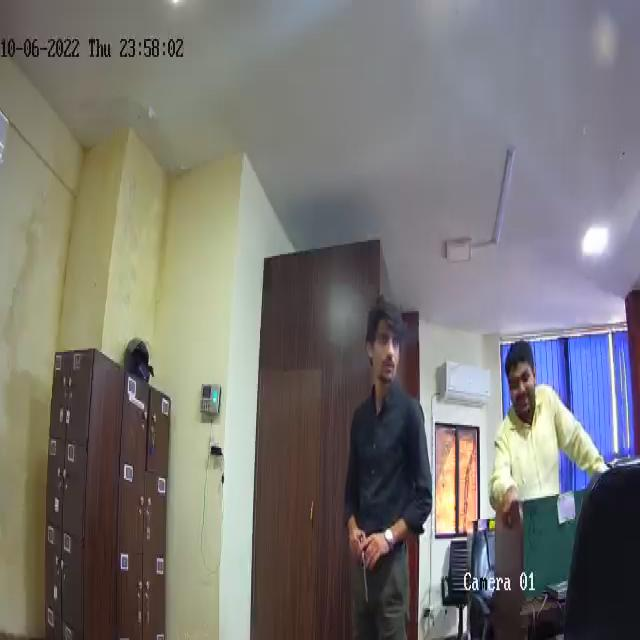weapon: (355, 532, 373, 610)
